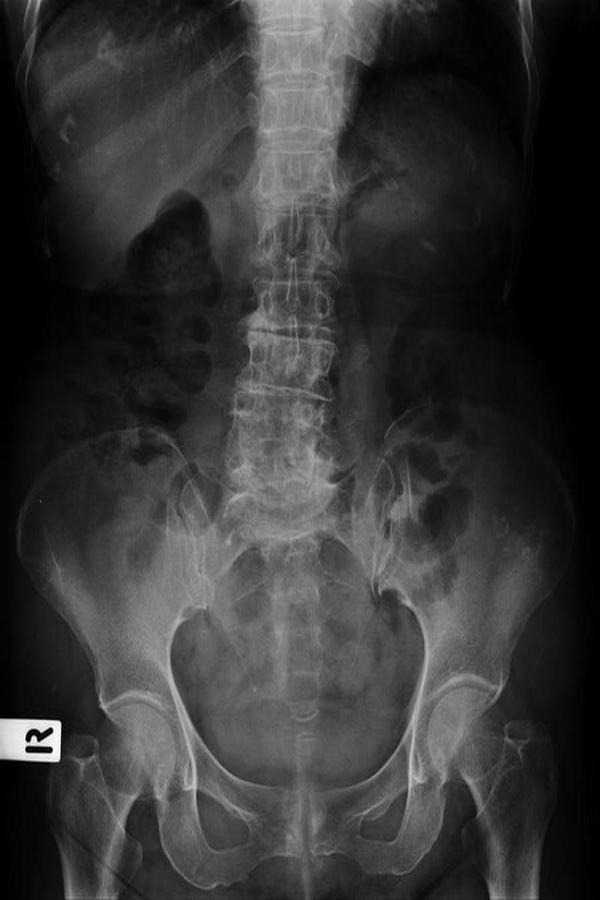lumbar scoliosis: (231, 11, 354, 525)
